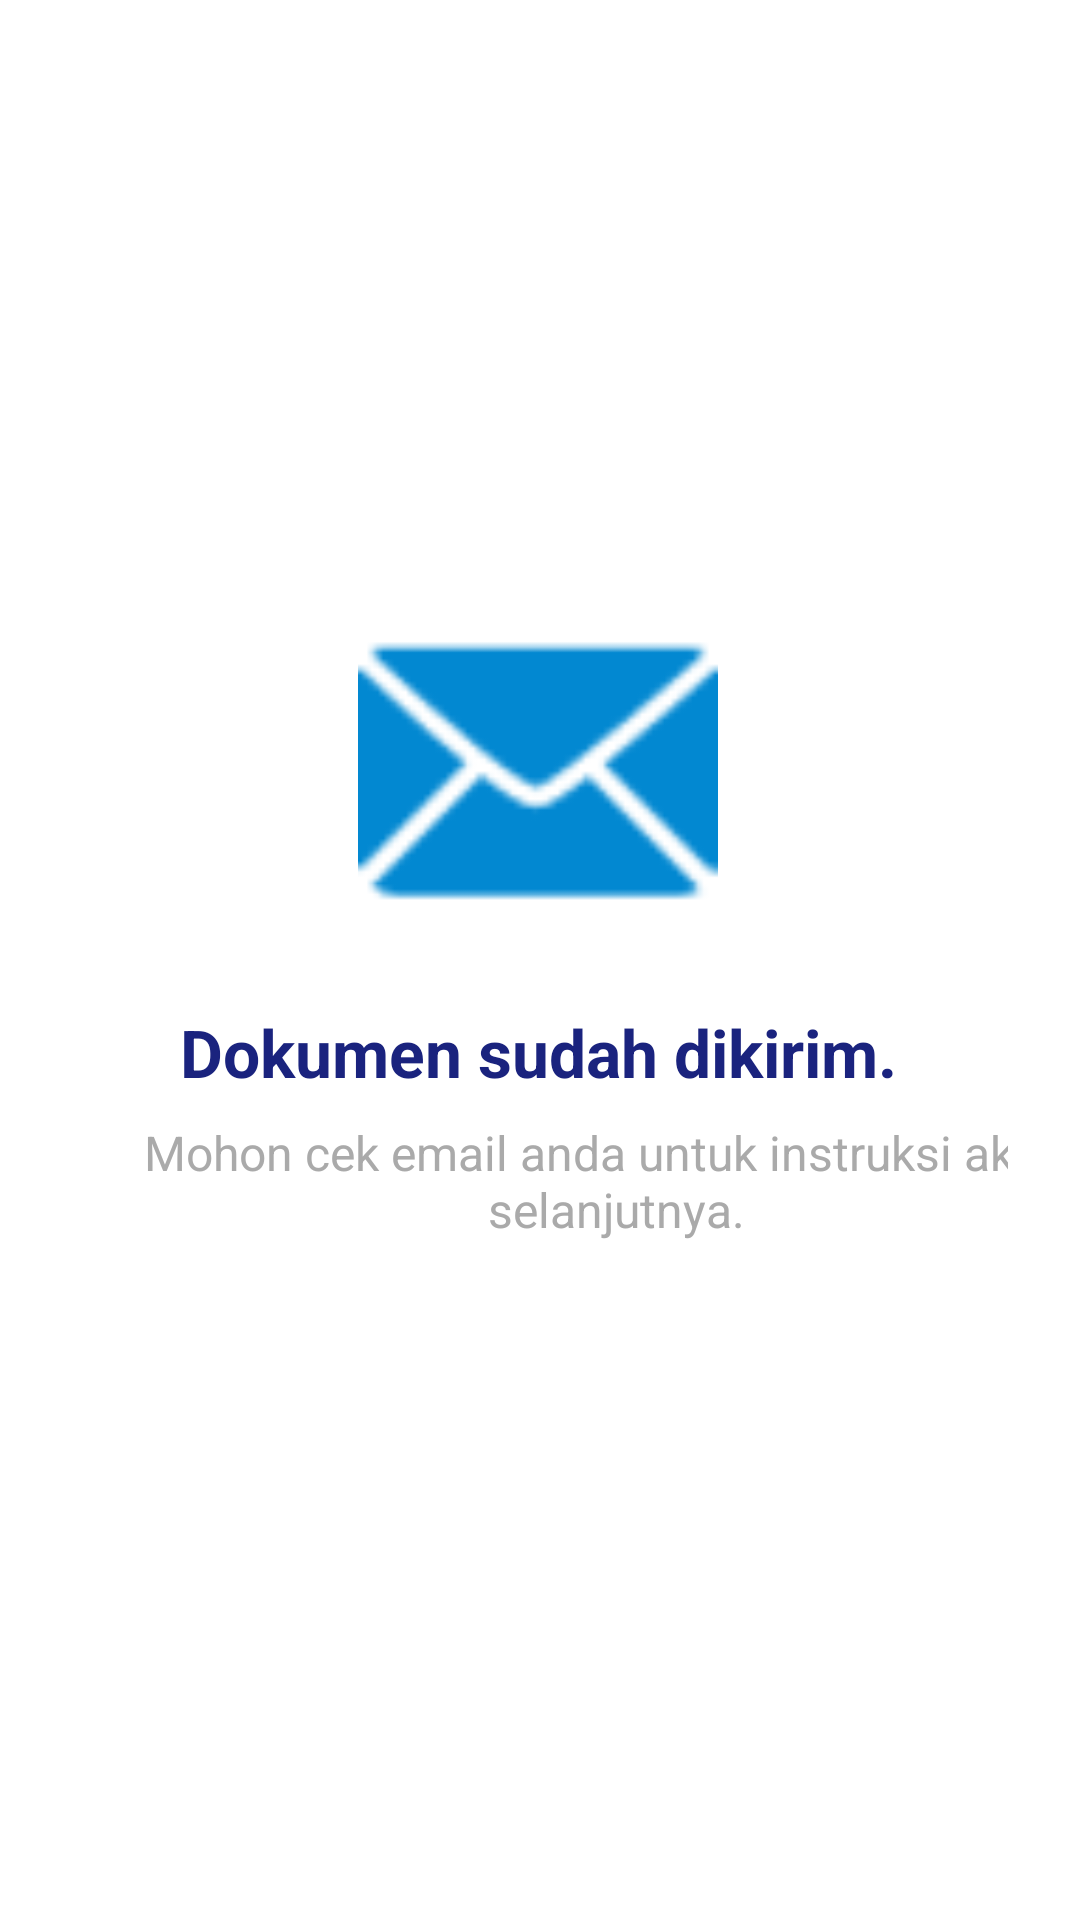

Icon click points for this 1080w x 1920h phone screenshot, format (x=x, y=y):
email: (x=538, y=771)
